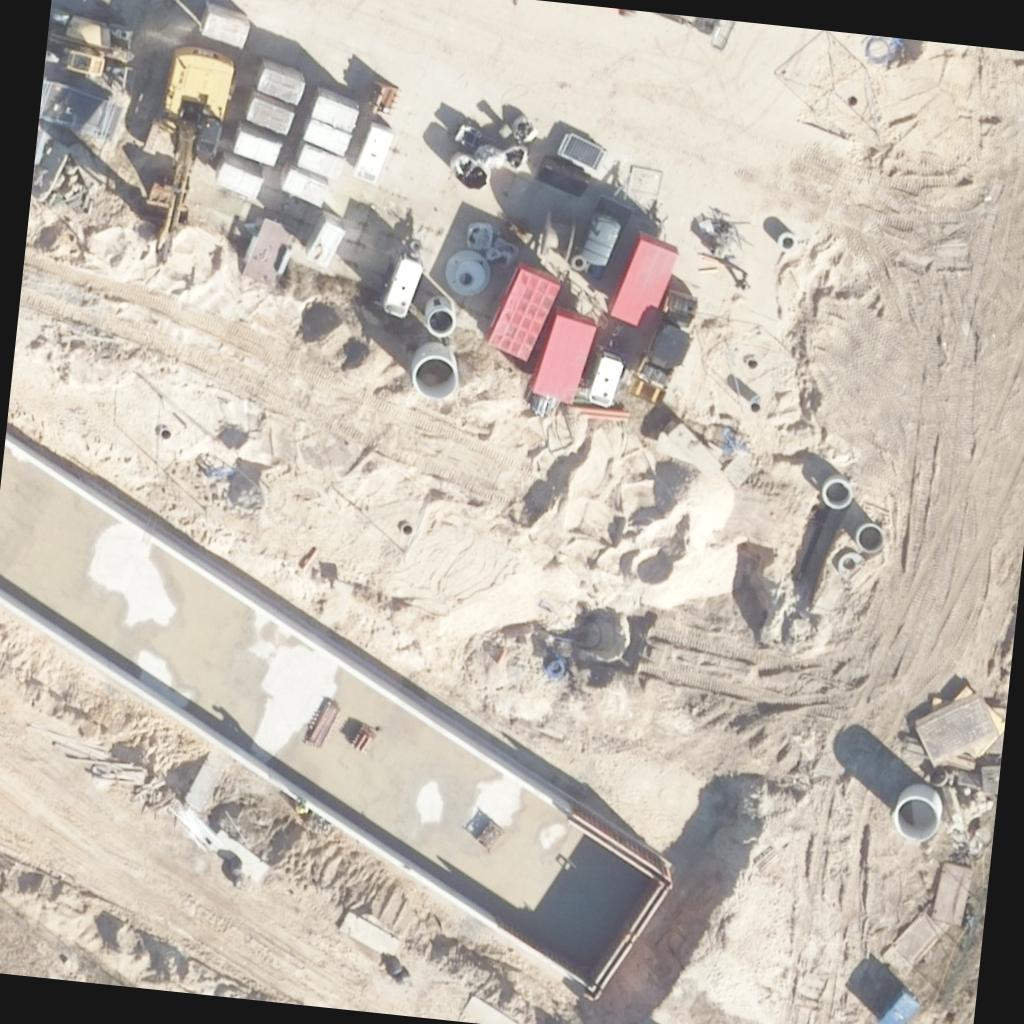koparka: (140, 40, 242, 272)
